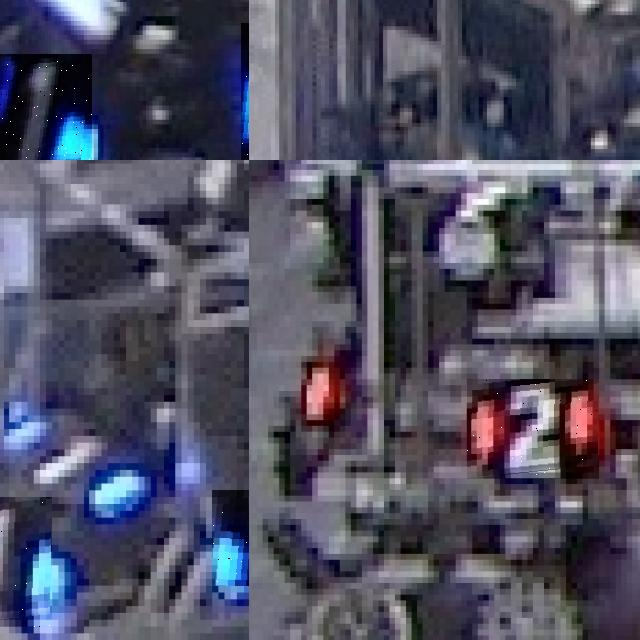B1: (0, 53, 92, 160), (0, 497, 52, 626), (212, 490, 249, 585)
R2: (467, 379, 599, 479)
